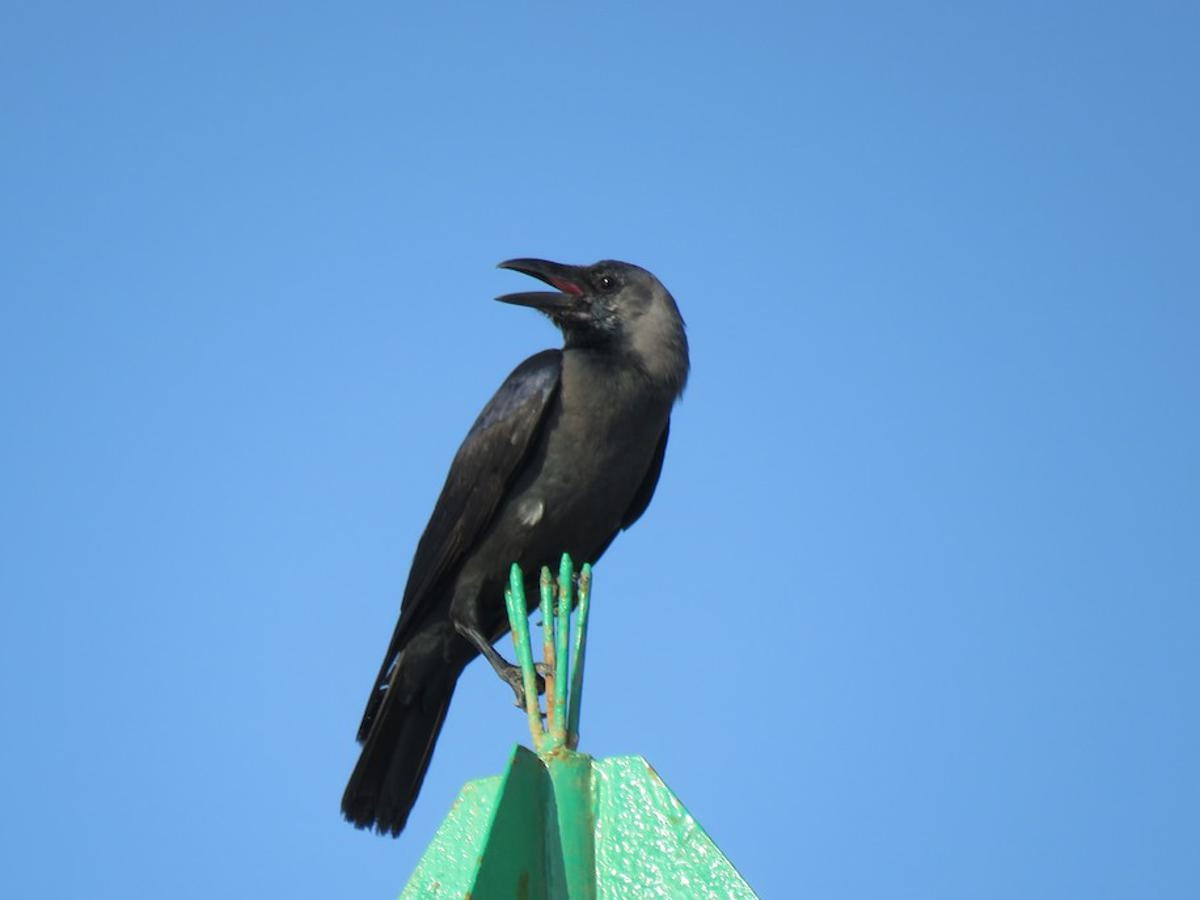crow: (390, 228, 703, 821)
